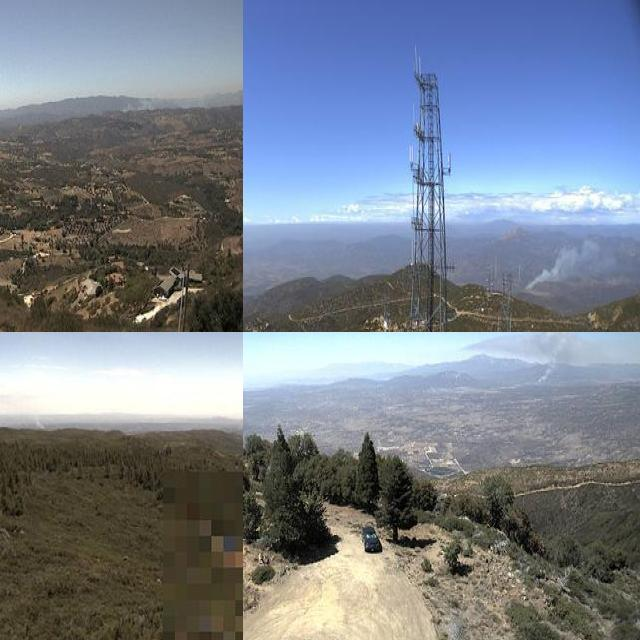smoke: (461, 332, 609, 387), (521, 230, 606, 296), (119, 79, 243, 112), (12, 399, 47, 427)
